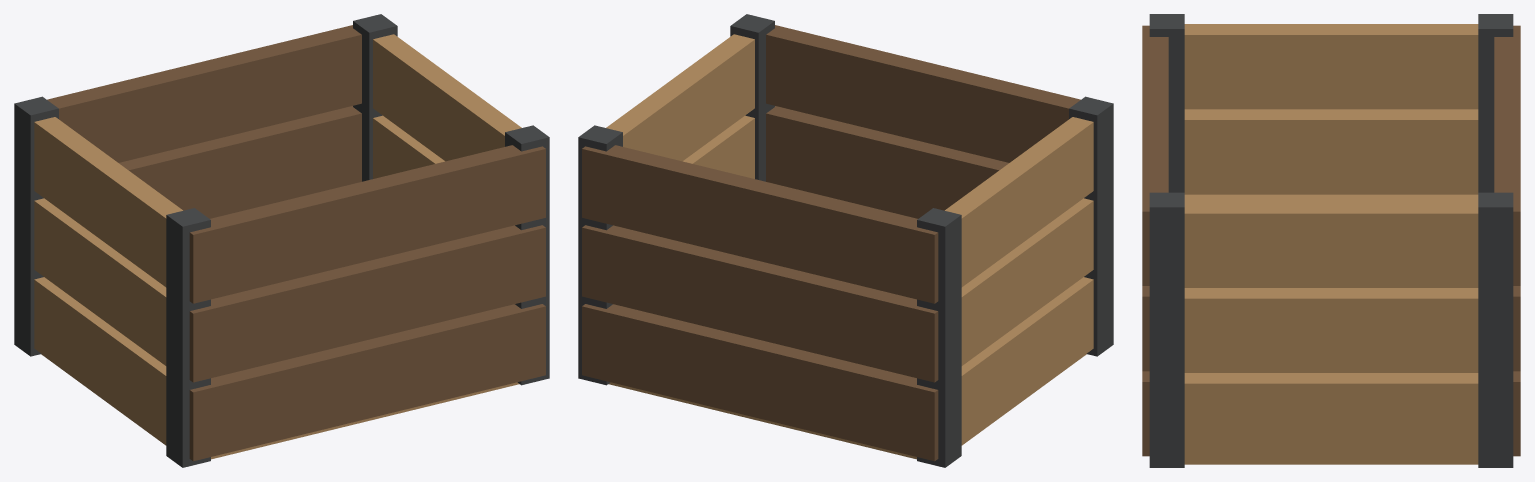
The model's file is crate.glb.
3 renders of one model, left to right at view 1: azimuth 30°, elevation 25°; view 2: azimuth 150°, elevation 25°; view 3: azimuth 270°, elevation 25°, orthographic. The views are drawn at different scales.
Visible parts, largest first — view 1: Crate • slatted cedar and iron corners.001; view 2: Crate • slatted cedar and iron corners.001; view 3: Crate • slatted cedar and iron corners.001.
Boxes of the visible parts, x1,y1,x2,y2 form: Crate • slatted cedar and iron corners.001: [14, 14, 549, 467]; Crate • slatted cedar and iron corners.001: [578, 14, 1113, 467]; Crate • slatted cedar and iron corners.001: [1142, 14, 1520, 467].
Bounding box in the file's own units: 0.78 × 0.4975 × 0.645.
